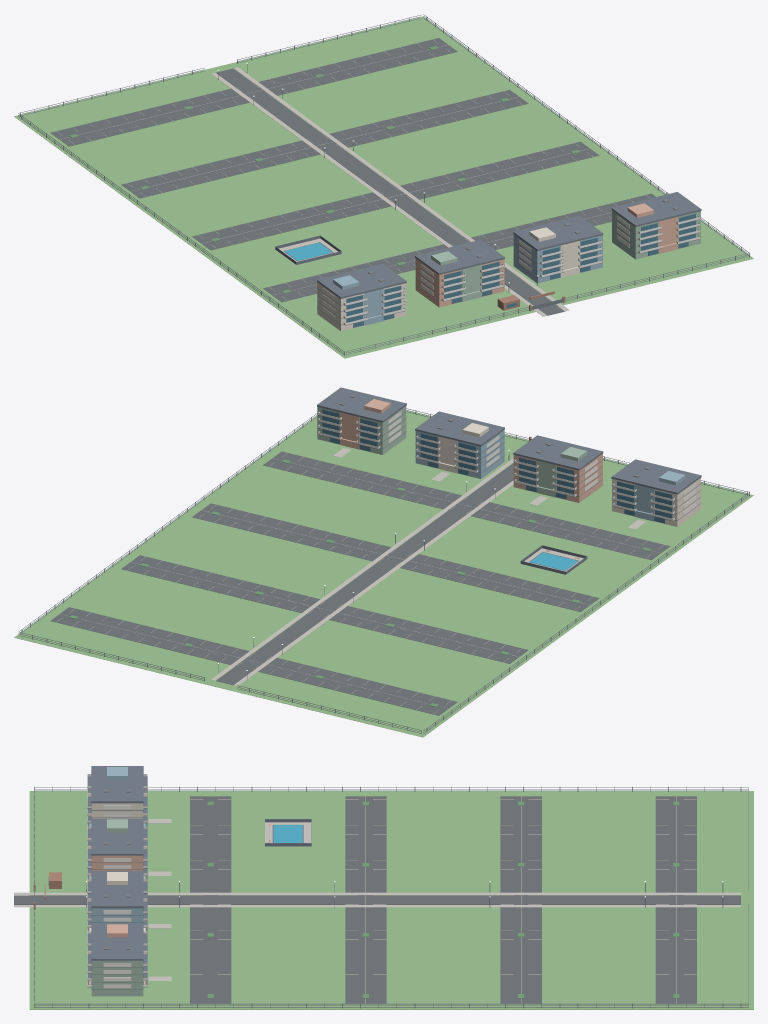
Rendered from north-crown-campus.glb.
3 renders of one model, top to bottom at view 1: azimuth 30°, elevation 25°; view 2: azimuth 150°, elevation 25°; view 3: azimuth 270°, elevation 25°, orthographic. The views are drawn at different scales.
Parts seen in each view (by area): view 1: north_crown_campus.001; view 2: north_crown_campus.001; view 3: north_crown_campus.001.
Part boxes in pixels (bbox=[...]): north_crown_campus.001: bbox=[14, 14, 753, 358]; north_crown_campus.001: bbox=[14, 387, 753, 737]; north_crown_campus.001: bbox=[14, 766, 753, 1009].
Size of the model in its own units: 200 by 18.54 by 286.
